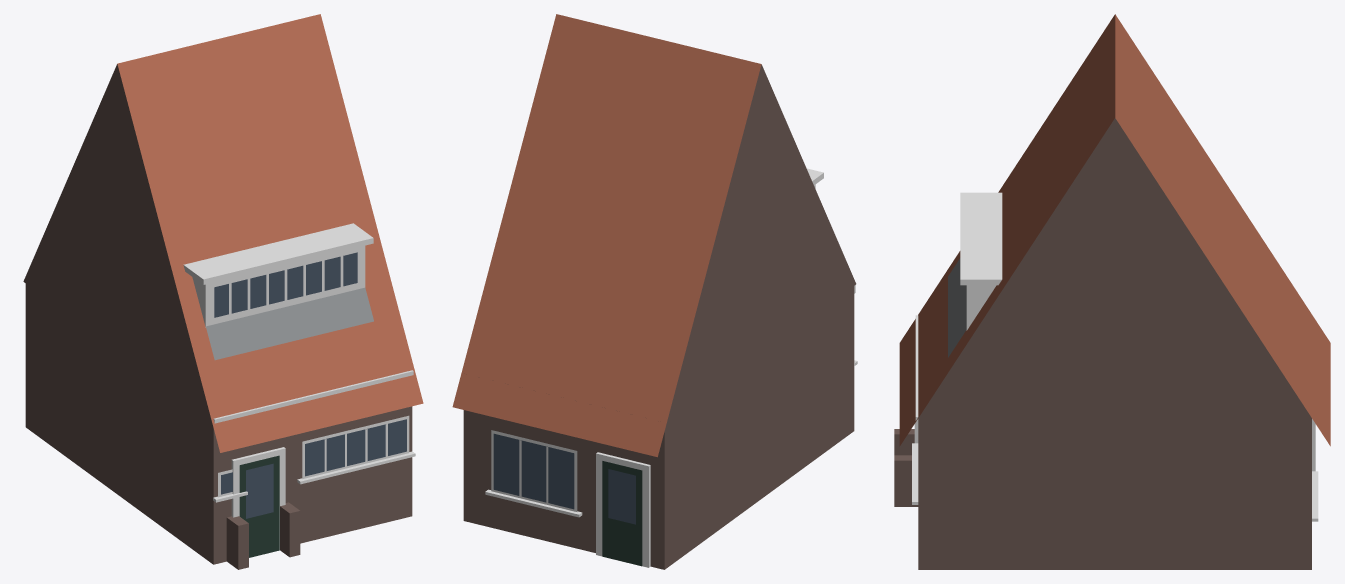
The model's file is nn-cottage__green-door__2__gable__long__solid__mirror.glb.
The picture shows the model from 3 angles, left to right: view 1: azimuth 30°, elevation 25°; view 2: azimuth 150°, elevation 25°; view 3: azimuth 270°, elevation 25°; orthographic projection. The views are drawn at different scales.
Visible parts, largest first — view 1: nn-cottage__green-door__2__gable__long__solid__mirror; view 2: nn-cottage__green-door__2__gable__long__solid__mirror; view 3: nn-cottage__green-door__2__gable__long__solid__mirror.
Boxes of the visible parts, x1,y1,x2,y2 form: nn-cottage__green-door__2__gable__long__solid__mirror: (23, 14, 423, 569); nn-cottage__green-door__2__gable__long__solid__mirror: (452, 14, 857, 569); nn-cottage__green-door__2__gable__long__solid__mirror: (894, 14, 1330, 569).
Size of the model in its own units: 4.59 by 9.34 by 8.15.
